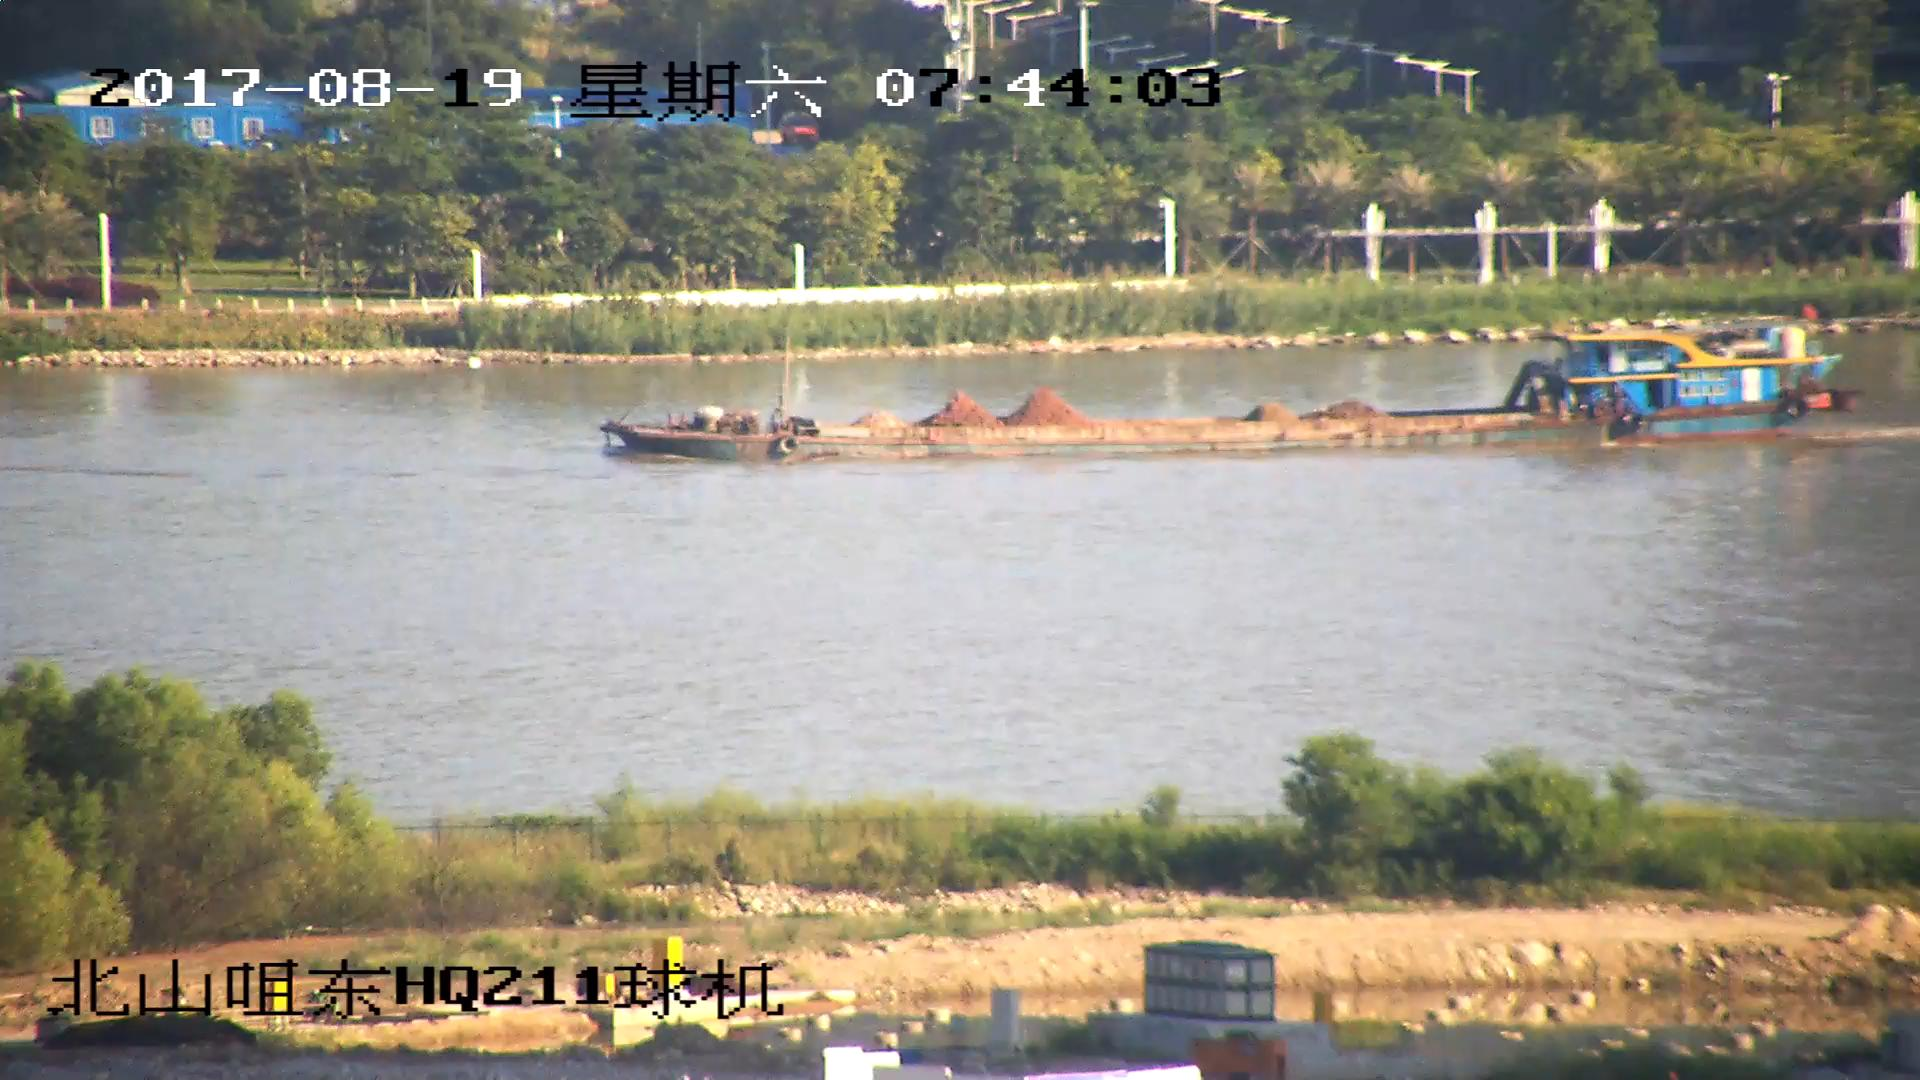ore carrier: (601, 305, 1861, 464)
